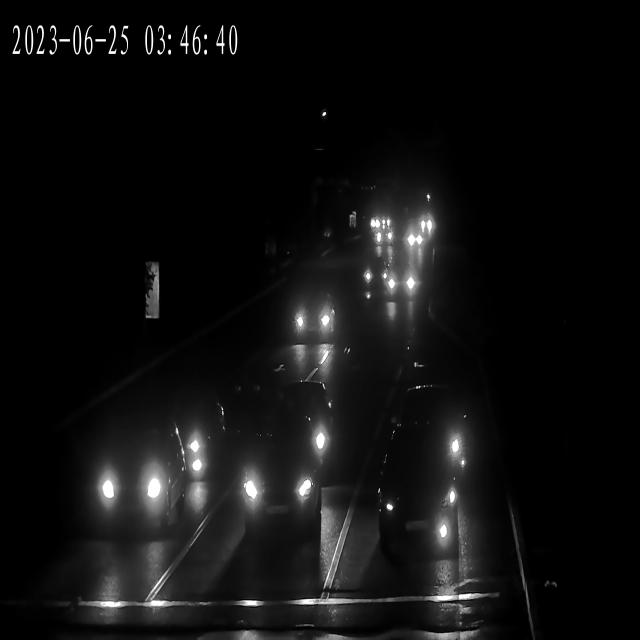Car: (78, 424, 189, 541), (223, 440, 322, 538), (368, 465, 464, 560), (384, 387, 472, 483), (269, 372, 343, 460), (159, 396, 225, 481), (285, 296, 338, 343), (387, 267, 422, 299), (366, 260, 390, 291), (362, 208, 392, 232), (374, 218, 396, 248), (417, 206, 436, 236), (402, 228, 426, 250), (406, 232, 426, 250)
